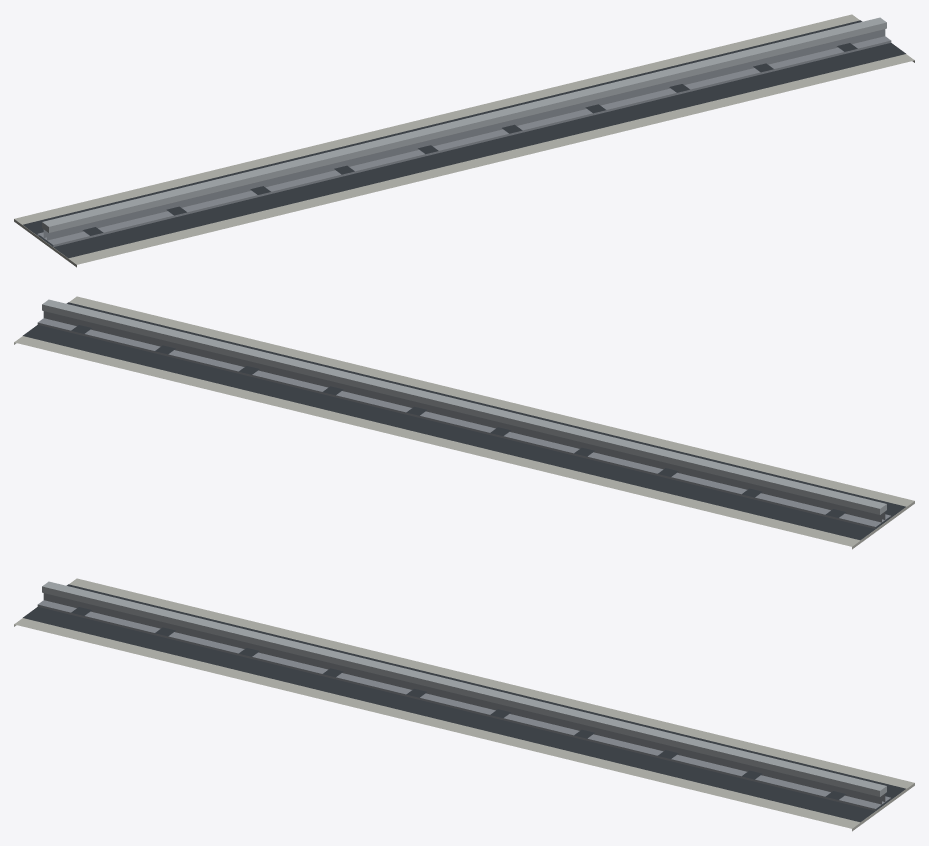
The model's file is quay-rail.glb.
3 views of the same model, one above another, from view 1: azimuth 30°, elevation 25°; view 2: azimuth 150°, elevation 25°; view 3: azimuth 330°, elevation 25° (orthographic).
Parts seen in each view (by area): view 1: rail; view 2: rail; view 3: rail.
Part boxes in pixels (<box>): rail: <box>14,14,914,267</box>; rail: <box>14,296,914,549</box>; rail: <box>14,578,914,831</box>.
Bounding box in the file's own units: 10 × 0.2295 × 1.3.
1 material, 1 textured.
